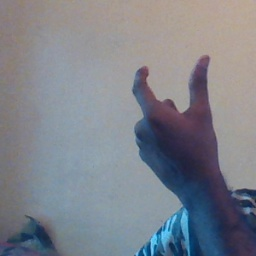U: (110, 48, 229, 174)
